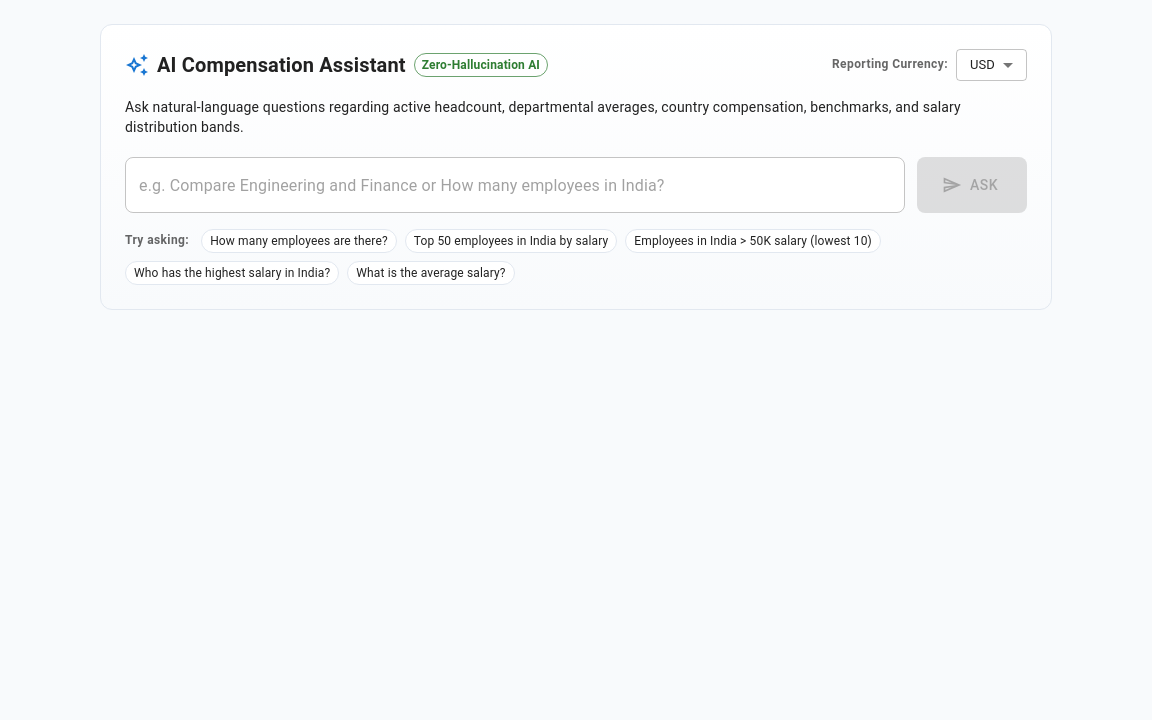
Test case: CompensationAssistant Component › renders departmental comparison visualizer
Type "Compare Engineering and Finance" into the field with placeholder "e.g. Compare Engineering and Finance" at (515, 185), box [125,157,905,213]
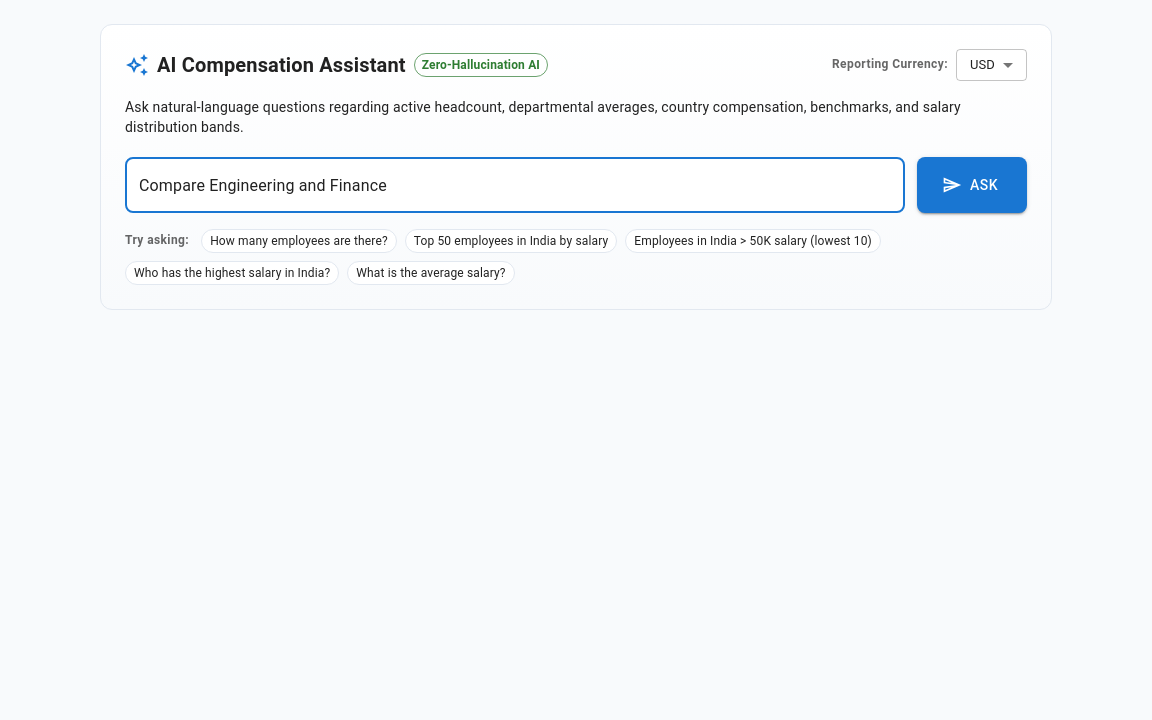
Click the button "Ask" at (972, 185), box [917,157,1027,213]
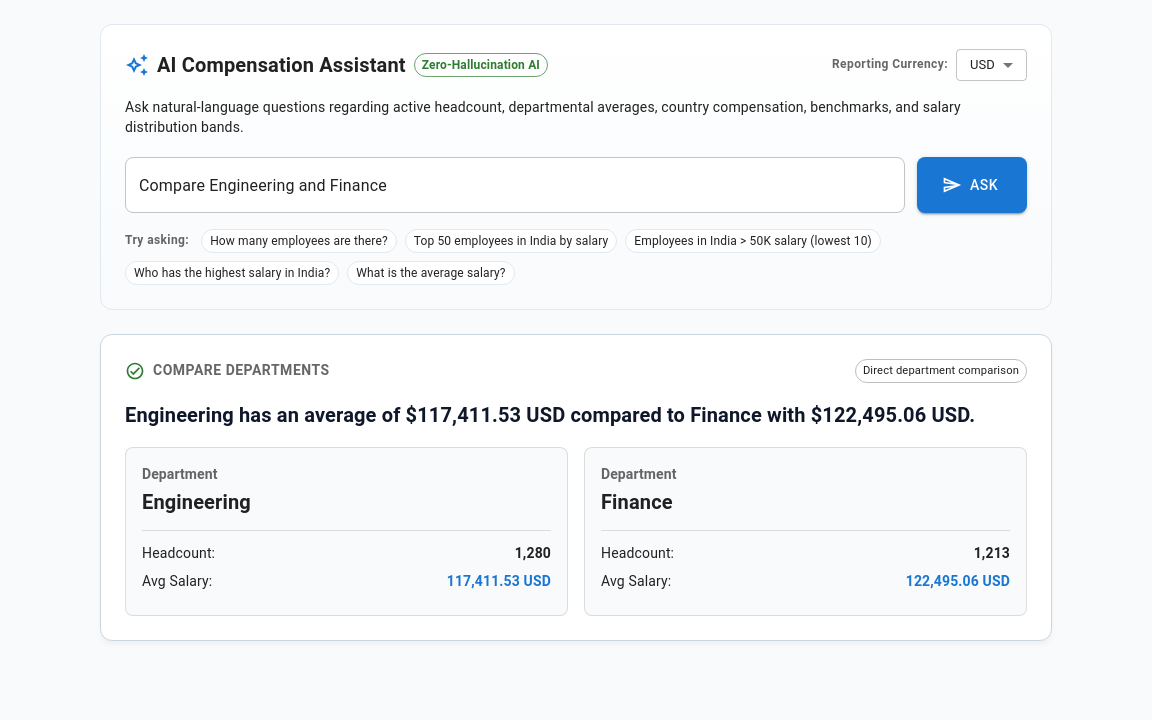
Check: the heading "Engineering" is shown, box [142,490,251,514]
Check: the heading "Finance" is shown, box [601,490,673,514]
Check: the text "1,280" is shown, box [515,543,551,563]
